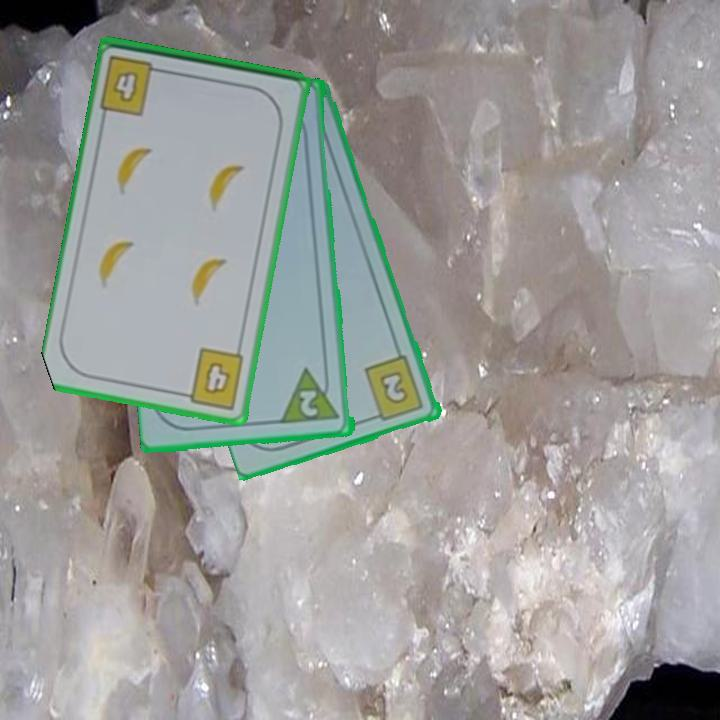2b: (361, 352, 427, 425)
2p: (297, 387, 322, 420)
4b: (97, 52, 170, 119), (177, 344, 247, 412)
